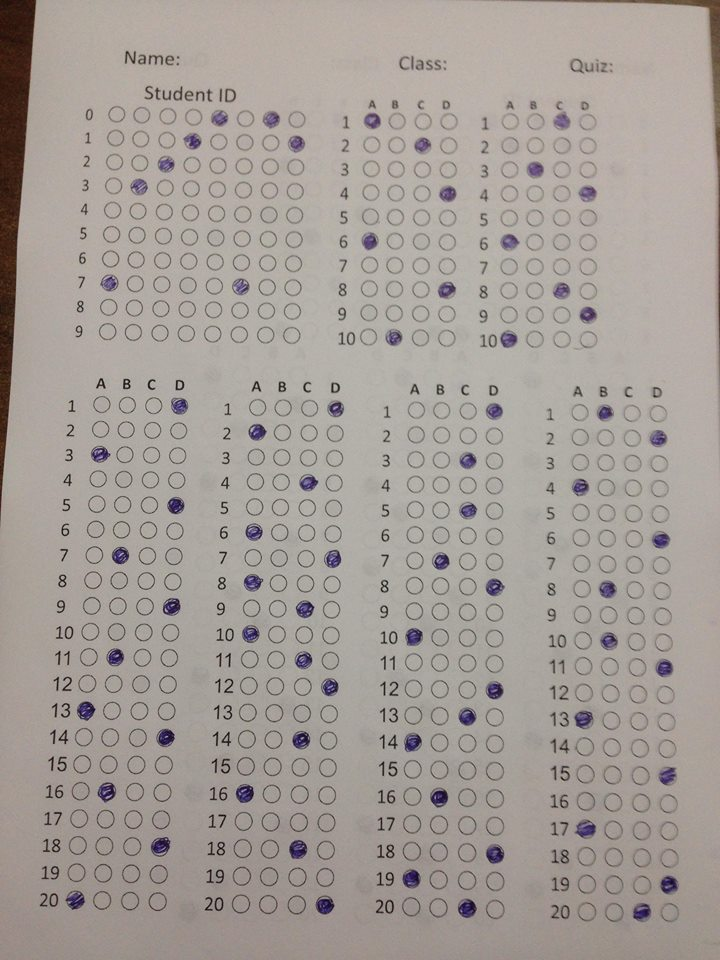not-c: (72, 725, 96, 749), (66, 833, 90, 857), (257, 864, 281, 888), (428, 840, 451, 865), (130, 672, 153, 696), (150, 807, 173, 831), (316, 810, 339, 834), (288, 809, 310, 834), (261, 781, 283, 806), (99, 726, 122, 749), (123, 807, 146, 830), (316, 783, 339, 806), (289, 783, 312, 806), (456, 841, 479, 864), (429, 678, 452, 701), (71, 752, 93, 776), (147, 890, 169, 914), (232, 836, 254, 860), (260, 810, 282, 834), (484, 813, 506, 837), (571, 551, 593, 575), (576, 844, 598, 868), (153, 753, 175, 776), (122, 835, 144, 858), (258, 892, 280, 915), (287, 865, 309, 888), (298, 446, 320, 469), (401, 839, 423, 862), (430, 600, 452, 623), (405, 473, 428, 495), (406, 399, 428, 422), (655, 684, 677, 707), (574, 735, 596, 758), (94, 833, 115, 857), (316, 838, 337, 862), (318, 728, 339, 752), (484, 652, 505, 676), (124, 781, 146, 803), (286, 894, 308, 916), (290, 756, 312, 778), (295, 547, 317, 569), (296, 521, 318, 543), (428, 897, 450, 919), (401, 813, 423, 835), (403, 651, 425, 673), (457, 601, 479, 623), (457, 575, 479, 597), (484, 526, 506, 548), (431, 474, 453, 496), (596, 477, 618, 499), (649, 477, 671, 499), (650, 503, 672, 525), (657, 738, 679, 760), (101, 699, 122, 722), (95, 807, 116, 830), (149, 863, 170, 886), (92, 862, 113, 885), (92, 889, 113, 912), (120, 889, 141, 912), (315, 866, 336, 889), (232, 864, 253, 887), (259, 837, 280, 860), (238, 674, 259, 697), (239, 647, 260, 670), (485, 870, 506, 893), (428, 813, 449, 836), (485, 787, 506, 810), (402, 785, 423, 808), (403, 758, 424, 781), (403, 704, 424, 727), (403, 677, 424, 700), (429, 627, 452, 648), (457, 627, 478, 650), (404, 600, 425, 623), (430, 574, 451, 597), (576, 901, 597, 924), (236, 754, 256, 778), (237, 727, 257, 751), (127, 727, 148, 749), (98, 754, 119, 776), (69, 808, 91, 829), (293, 675, 314, 697), (265, 675, 286, 697), (294, 623, 315, 645), (241, 597, 262, 619), (295, 573, 317, 594), (322, 573, 343, 595), (324, 472, 345, 494), (428, 869, 449, 891), (457, 814, 478, 836), (404, 575, 425, 597), (431, 524, 452, 546), (405, 499, 427, 520), (458, 425, 479, 447), (458, 400, 480, 421), (570, 402, 591, 424), (623, 477, 644, 499), (627, 657, 648, 679), (602, 736, 623, 758), (575, 791, 597, 812), (603, 846, 624, 868), (158, 673, 178, 696), (234, 810, 254, 833), (605, 901, 625, 924), (107, 595, 128, 616), (231, 893, 252, 914), (269, 522, 290, 543), (401, 896, 422, 917), (457, 787, 478, 808), (430, 732, 451, 753), (430, 705, 451, 726), (431, 425, 452, 446), (431, 400, 452, 421), (621, 403, 642, 424), (622, 428, 643, 449), (595, 427, 616, 448), (571, 452, 592, 473), (598, 553, 619, 574), (159, 648, 181, 668), (318, 756, 338, 778), (321, 623, 341, 645), (268, 597, 288, 619), (268, 572, 288, 594), (323, 523, 343, 545), (486, 898, 506, 920), (485, 760, 505, 782), (485, 706, 505, 728), (458, 679, 478, 701), (648, 403, 668, 425), (571, 501, 591, 523), (624, 555, 646, 575), (632, 792, 652, 814), (233, 204, 253, 225), (256, 276, 277, 296), (167, 447, 188, 467), (165, 521, 185, 542), (83, 570, 103, 591), (264, 729, 285, 749), (319, 703, 339, 724), (323, 497, 343, 518), (297, 497, 318, 517), (324, 448, 345, 468), (272, 447, 292, 468), (458, 760, 478, 781), (457, 733, 478, 753), (485, 734, 505, 755), (430, 652, 450, 673), (432, 500, 452, 521), (484, 501, 505, 521), (484, 476, 504, 497), (406, 449, 427, 469), (431, 450, 452, 470), (484, 451, 505, 471), (597, 502, 617, 523), (624, 503, 644, 524), (571, 527, 591, 548), (654, 633, 675, 653), (574, 656, 594, 677), (600, 656, 620, 677), (601, 684, 622, 704), (628, 684, 649, 704), (629, 711, 649, 732), (603, 792, 624, 812), (603, 820, 623, 841), (633, 847, 653, 868), (577, 874, 597, 895), (605, 874, 625, 895), (410, 279, 431, 299), (579, 330, 600, 350), (77, 674, 99, 693), (458, 869, 477, 891), (485, 601, 504, 623), (485, 425, 504, 447), (633, 819, 652, 841), (136, 571, 156, 591), (82, 597, 102, 617), (78, 647, 98, 667), (156, 701, 176, 721), (71, 781, 91, 801), (263, 756, 283, 776), (266, 650, 286, 670), (243, 548, 263, 568), (274, 397, 294, 417), (485, 552, 505, 572), (570, 428, 590, 448), (624, 529, 644, 549), (652, 555, 672, 575), (653, 580, 673, 600), (627, 632, 647, 652), (631, 766, 651, 786), (439, 136, 459, 156), (578, 112, 598, 132), (499, 184, 519, 204), (115, 445, 136, 464), (89, 468, 108, 489), (136, 597, 155, 618), (107, 621, 126, 642), (133, 623, 154, 642), (127, 754, 146, 775), (121, 864, 140, 885), (67, 862, 86, 883), (238, 703, 259, 722), (321, 650, 340, 671), (272, 472, 291, 493), (325, 423, 344, 444), (430, 759, 449, 780), (458, 551, 477, 572), (600, 604, 619, 625), (602, 765, 623, 784), (659, 793, 678, 814), (660, 848, 679, 869), (156, 201, 174, 223), (247, 446, 265, 468), (234, 180, 254, 199), (130, 201, 149, 221), (100, 250, 120, 269), (285, 278, 304, 298), (125, 297, 144, 317), (178, 300, 198, 319), (230, 325, 250, 344), (282, 326, 302, 345), (141, 471, 160, 491), (87, 521, 107, 540), (164, 548, 184, 567), (109, 571, 129, 590), (163, 573, 183, 592), (103, 674, 122, 694), (153, 783, 173, 802), (267, 624, 286, 644), (322, 599, 341, 619), (246, 472, 266, 491), (458, 653, 477, 673), (485, 628, 504, 648), (407, 425, 426, 445), (596, 452, 615, 472), (623, 454, 643, 473), (650, 454, 669, 474), (626, 607, 646, 626), (573, 605, 593, 624), (574, 683, 594, 702), (602, 711, 621, 731), (630, 738, 649, 758), (576, 764, 596, 783), (632, 874, 651, 894), (361, 159, 381, 178), (413, 159, 432, 179), (386, 184, 406, 203), (439, 208, 458, 228), (438, 233, 458, 252), (412, 255, 431, 275), (436, 256, 456, 275), (412, 328, 431, 348), (500, 136, 520, 155), (525, 135, 544, 155), (553, 160, 573, 179), (526, 184, 545, 204), (499, 257, 519, 276), (139, 496, 160, 514), (84, 547, 105, 565), (138, 546, 156, 567), (130, 701, 148, 722), (293, 703, 311, 724), (270, 548, 288, 569), (660, 820, 678, 841), (661, 901, 679, 922), (358, 329, 379, 347), (438, 328, 456, 349), (553, 183, 571, 204), (578, 257, 599, 275), (260, 181, 279, 200), (103, 224, 122, 243), (285, 229, 304, 248), (176, 324, 195, 343), (143, 422, 162, 441), (88, 495, 107, 514), (140, 520, 159, 539), (81, 622, 100, 641), (161, 624, 180, 643), (271, 498, 290, 517), (245, 497, 264, 516), (273, 422, 292, 441), (248, 398, 267, 417), (406, 551, 425, 570), (459, 526, 478, 545), (598, 529, 617, 548), (573, 579, 592, 598), (574, 631, 593, 650), (362, 135, 381, 154), (388, 136, 407, 155), (439, 161, 458, 180), (527, 209, 546, 228), (579, 208, 598, 227), (579, 282, 598, 301), (157, 131, 177, 149), (181, 204, 201, 222), (154, 227, 174, 245), (205, 230, 225, 248), (283, 303, 303, 321), (167, 472, 187, 490), (264, 704, 284, 722), (300, 422, 318, 442), (654, 606, 672, 626), (439, 112, 459, 130), (386, 161, 406, 179), (361, 254, 379, 274), (501, 111, 519, 131), (526, 234, 546, 252), (526, 281, 546, 299), (526, 330, 546, 348), (554, 330, 572, 350), (106, 105, 127, 122), (158, 107, 177, 125), (236, 108, 254, 127), (209, 156, 228, 174), (181, 229, 200, 247), (154, 251, 173, 269), (233, 253, 251, 272), (98, 323, 117, 341), (152, 324, 170, 343), (145, 397, 163, 416), (92, 419, 110, 438), (114, 470, 133, 488), (114, 495, 132, 514), (113, 521, 132, 539), (406, 525, 424, 544), (459, 476, 477, 495), (657, 713, 676, 731), (415, 112, 433, 131), (412, 185, 431, 203), (387, 209, 406, 227), (385, 256, 404, 274), (385, 279, 403, 298), (438, 305, 456, 324), (579, 137, 598, 155), (579, 160, 597, 179), (288, 109, 305, 129), (105, 176, 122, 196), (210, 180, 227, 200), (126, 251, 146, 268), (126, 275, 146, 292), (153, 274, 170, 294), (169, 422, 189, 439), (359, 280, 379, 297), (411, 305, 431, 322), (501, 305, 518, 325), (553, 307, 573, 324), (103, 202, 124, 218), (525, 259, 546, 275), (106, 129, 124, 147), (261, 158, 279, 176), (259, 230, 277, 248), (284, 255, 302, 273), (179, 277, 197, 295), (153, 299, 171, 317), (232, 301, 250, 319), (258, 301, 276, 319), (119, 396, 137, 414), (301, 399, 319, 417), (626, 581, 644, 599), (363, 183, 381, 201), (185, 108, 204, 125), (262, 134, 281, 151), (131, 154, 150, 171), (287, 206, 304, 225), (180, 252, 197, 271), (99, 299, 118, 316), (205, 302, 224, 319), (204, 327, 223, 344), (257, 326, 274, 345), (412, 211, 431, 228), (360, 305, 379, 322), (579, 234, 598, 251), (553, 258, 572, 275), (205, 278, 225, 294), (210, 133, 228, 150), (184, 180, 201, 198), (209, 205, 226, 223), (261, 206, 279, 223), (207, 253, 225, 270), (117, 422, 135, 439), (143, 447, 160, 465), (133, 649, 151, 666), (386, 233, 403, 251), (386, 304, 403, 322), (526, 112, 544, 129), (554, 136, 571, 154), (501, 161, 519, 178), (500, 209, 518, 226), (500, 282, 517, 300), (526, 307, 544, 324), (236, 135, 255, 151), (125, 323, 141, 342), (93, 396, 112, 412), (134, 107, 151, 124), (133, 131, 150, 148), (106, 153, 123, 170), (288, 160, 305, 177), (129, 227, 146, 244), (259, 254, 276, 271), (412, 232, 429, 249), (553, 234, 571, 250), (184, 156, 200, 173), (237, 157, 254, 173), (288, 183, 304, 200), (233, 230, 250, 246), (389, 113, 405, 130), (553, 209, 570, 225), (156, 181, 174, 196), (362, 209, 379, 224)
taken-c: (484, 841, 508, 865), (455, 896, 478, 918), (287, 839, 310, 861), (109, 543, 131, 566), (167, 395, 190, 417), (208, 106, 230, 128), (550, 109, 572, 131), (575, 818, 597, 840), (314, 894, 336, 916), (240, 624, 262, 646), (243, 522, 265, 544), (457, 450, 479, 472), (483, 400, 505, 422), (260, 107, 281, 130), (402, 867, 423, 890), (88, 444, 111, 465), (104, 647, 127, 668), (74, 700, 97, 721), (95, 782, 118, 803), (63, 890, 86, 911), (596, 580, 620, 600), (656, 766, 680, 786), (573, 710, 595, 731), (233, 783, 255, 804), (319, 676, 341, 697), (161, 596, 183, 617), (154, 728, 176, 749), (149, 837, 171, 858), (647, 429, 670, 449), (650, 531, 673, 551), (428, 785, 448, 808), (484, 680, 507, 700), (293, 651, 314, 672), (498, 328, 520, 348), (595, 401, 615, 423), (402, 626, 424, 646), (240, 572, 262, 592), (165, 495, 187, 515), (498, 233, 521, 252), (181, 130, 202, 150), (156, 153, 176, 174), (436, 279, 457, 299), (570, 477, 591, 497), (456, 705, 477, 725), (290, 729, 309, 751), (437, 183, 457, 203), (550, 280, 570, 300), (458, 500, 478, 520), (360, 230, 379, 251), (576, 184, 597, 203), (599, 632, 620, 651), (659, 875, 680, 894), (295, 600, 316, 619), (322, 548, 341, 569), (577, 306, 599, 324), (633, 902, 651, 924), (129, 175, 148, 195), (230, 276, 249, 296), (525, 158, 544, 178), (654, 658, 674, 677), (403, 731, 422, 751), (99, 273, 120, 291), (484, 578, 505, 596), (246, 423, 268, 440), (286, 133, 305, 152), (413, 135, 432, 154), (431, 552, 450, 571), (363, 111, 381, 131), (385, 328, 404, 346), (299, 474, 319, 491), (328, 400, 345, 420)
